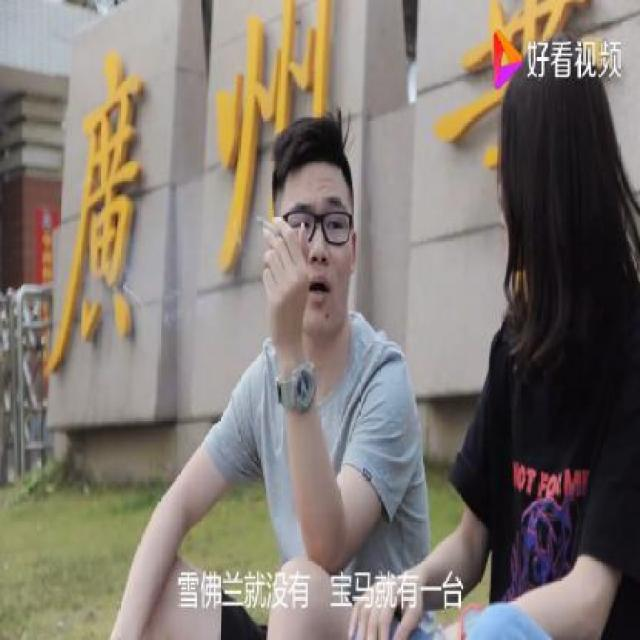smoke: (252, 205, 285, 246)
